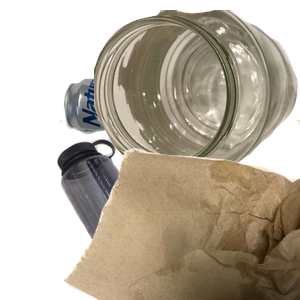glass: (94, 10, 300, 184)
metal: (61, 75, 231, 202)
plastic: (54, 136, 209, 300)
trash: (60, 120, 300, 300)
